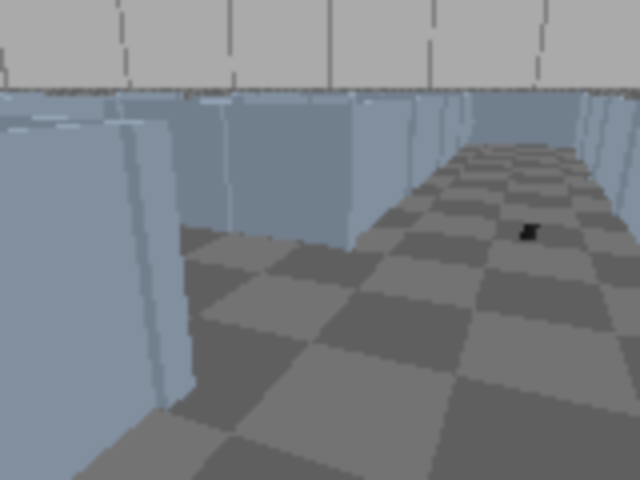puck: (522, 223, 538, 240)
